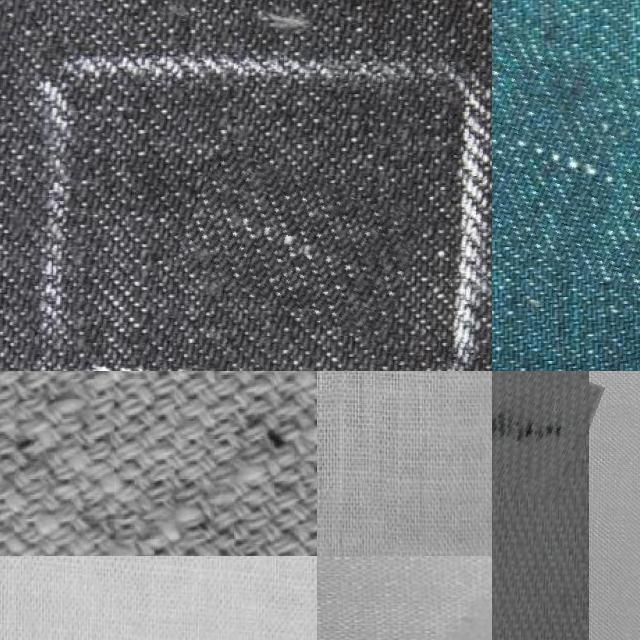Hole: (492, 371, 597, 490)
Thread_other: (181, 163, 417, 325), (492, 28, 640, 274)
